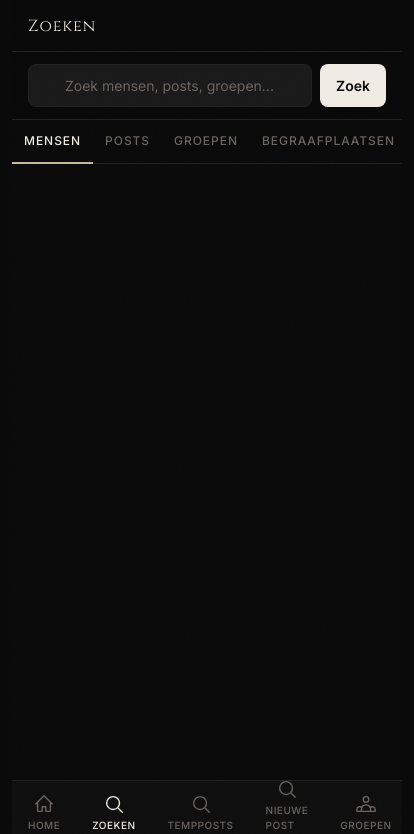
Zoeken › Zoekresultaten › toont 'Geen resultaten' bij een zoekopdracht zonder match
Type "xqzxqzxqz" into the field with placeholder "Zoek mensen, posts, groepen..." at (170, 86), box [28,64,312,107]
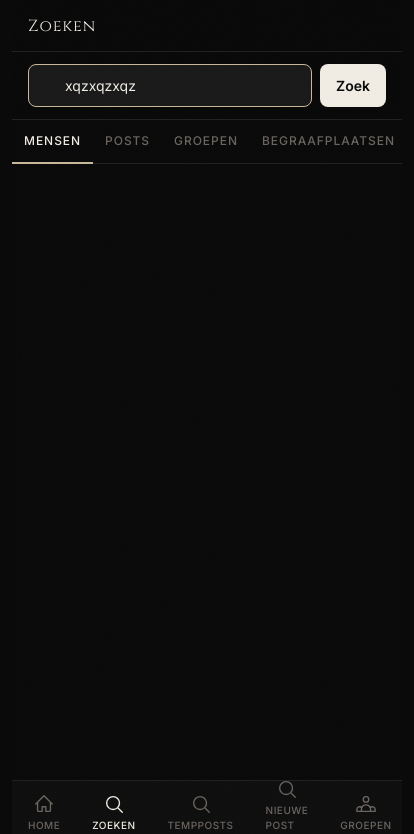
Click the button "Zoek" at (353, 86), box [320,64,386,107]
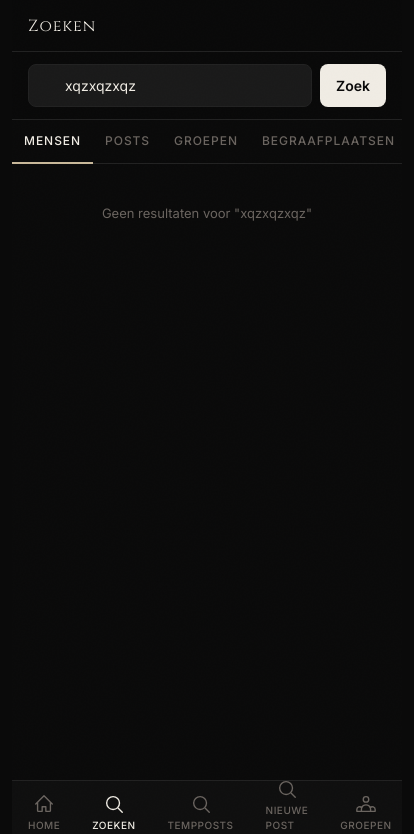
Now the text "Geen resultaten" is shown, box [102,205,240,221]
